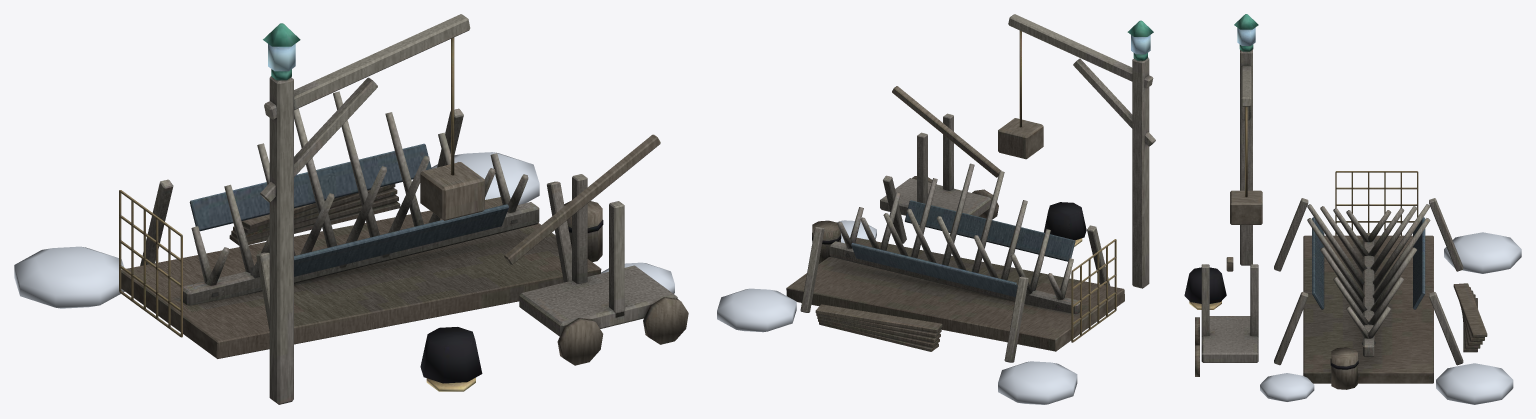
The model's file is salz_workshop.glb.
3 views of the same model, side by side, from view 1: azimuth 30°, elevation 25°; view 2: azimuth 150°, elevation 25°; view 3: azimuth 270°, elevation 25° (orthographic). The views are drawn at different scales.
Parts seen in each view (by area): view 1: salz_workshop, Schnee; view 2: salz_workshop, Schnee; view 3: salz_workshop, Schnee.
Part boxes in pixels (x1,y1,x2,y2): salz_workshop: (119, 14, 688, 404); Schnee: (14, 152, 674, 308); salz_workshop: (786, 14, 1155, 362); Schnee: (717, 220, 1077, 404); salz_workshop: (1184, 14, 1487, 389); Schnee: (1260, 232, 1521, 404).
Size of the model in its own units: 4.75 by 3.55 by 4.14.
Materials: 2 (1 with a texture image).
